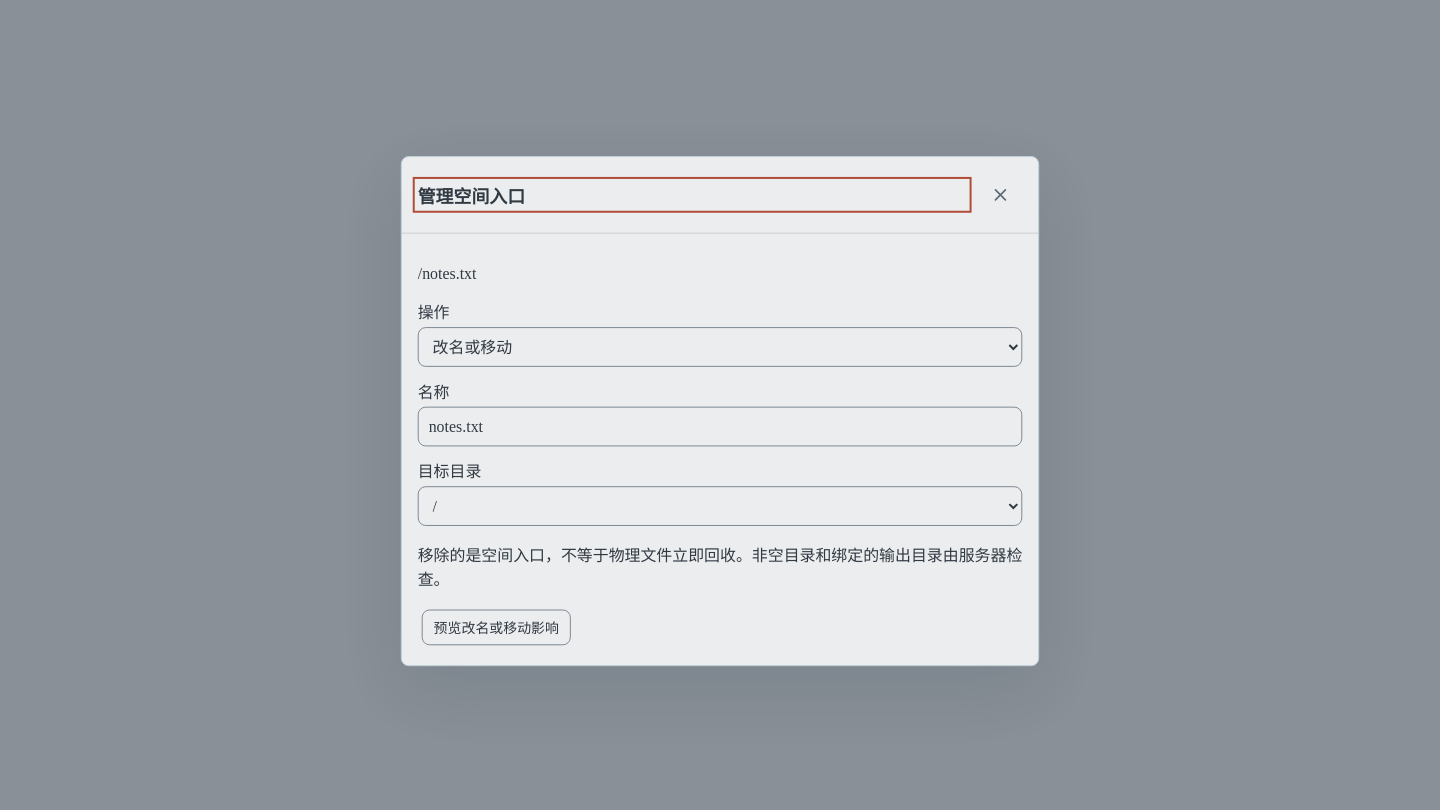
Test: clears impact on name/action changes and never automatically retries an expired token
Click the button "预览改名或移动影响": [496, 624] box [421,606,570,642]
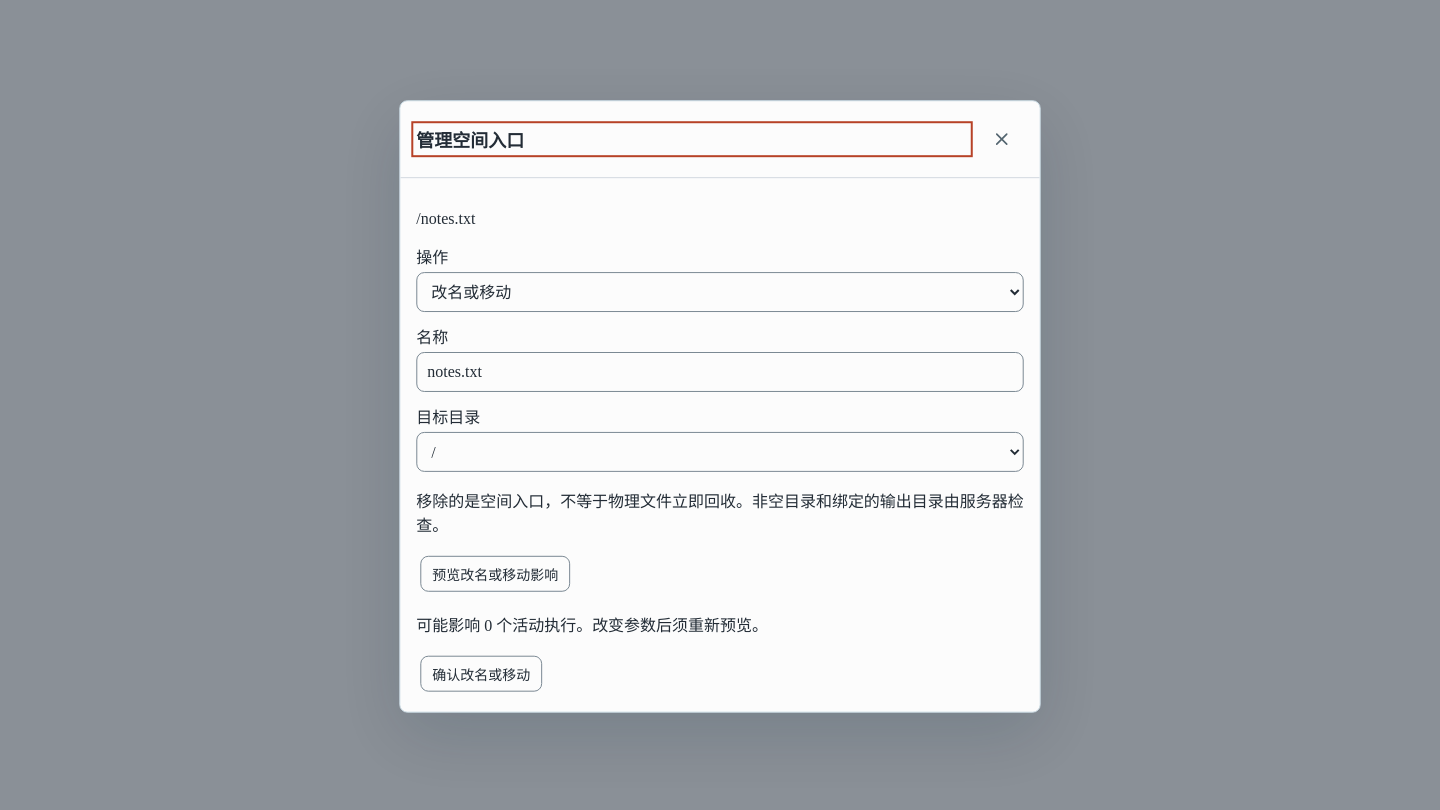
Result: the button "确认改名或移动" is shown at [420,655,542,691]
Replace the text in the field named "Workspace 名称" with "new.txt": [720, 371] box [416,351,1024,391]
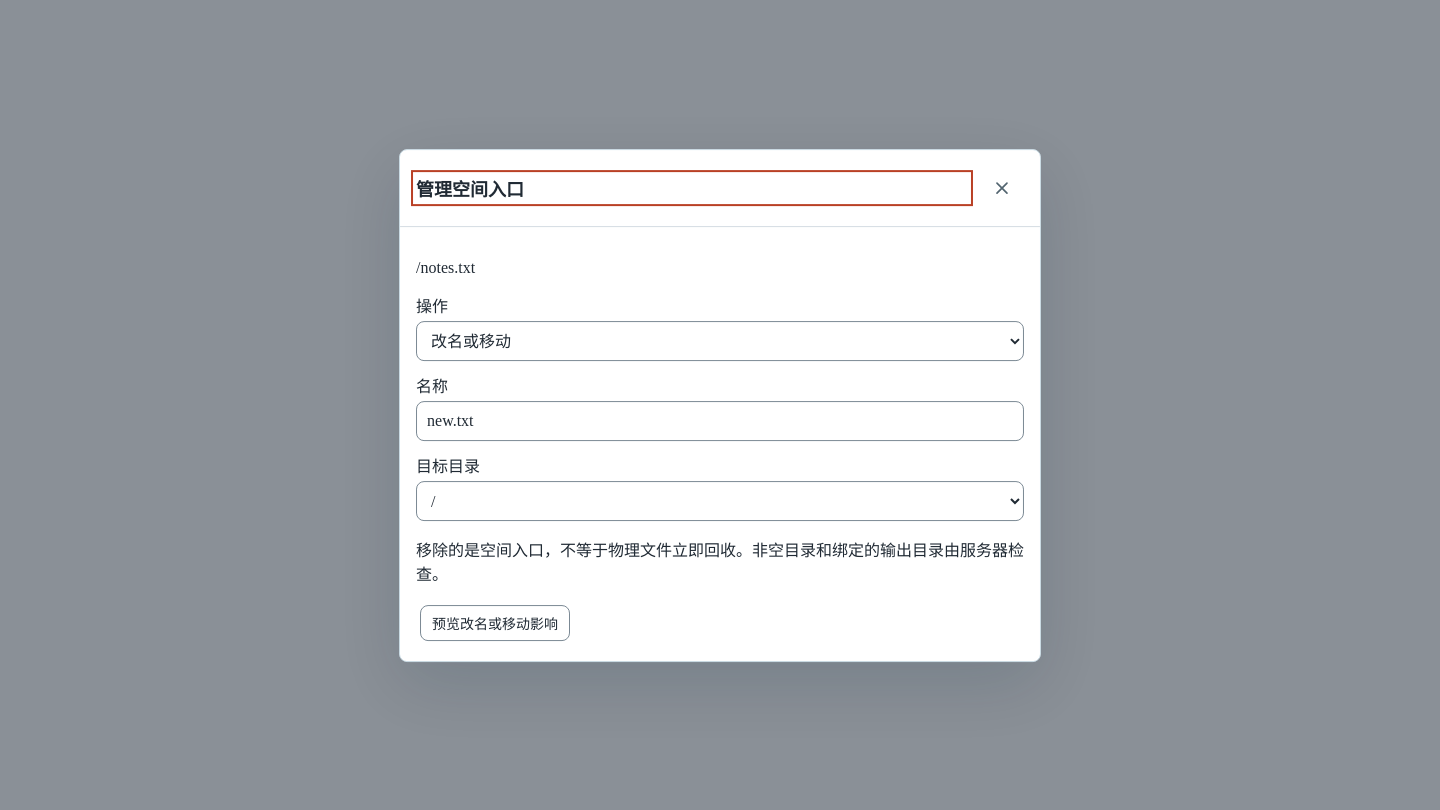
Result: the button "确认改名或移动" is gone
Click the button "预览改名或移动影响": [495, 622] box [420,604,570,640]
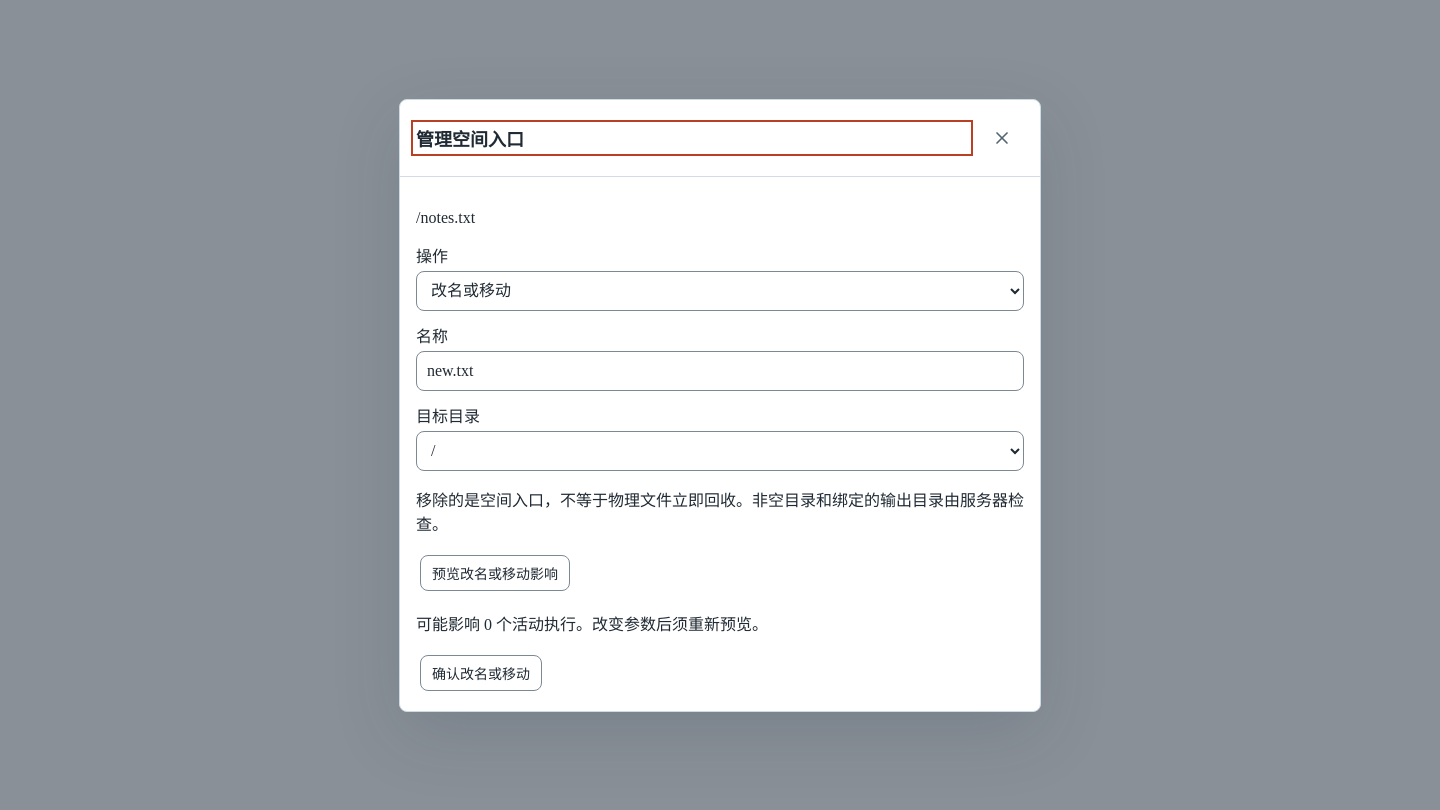
Click the button "确认改名或移动": [481, 672] box [420,654,542,690]
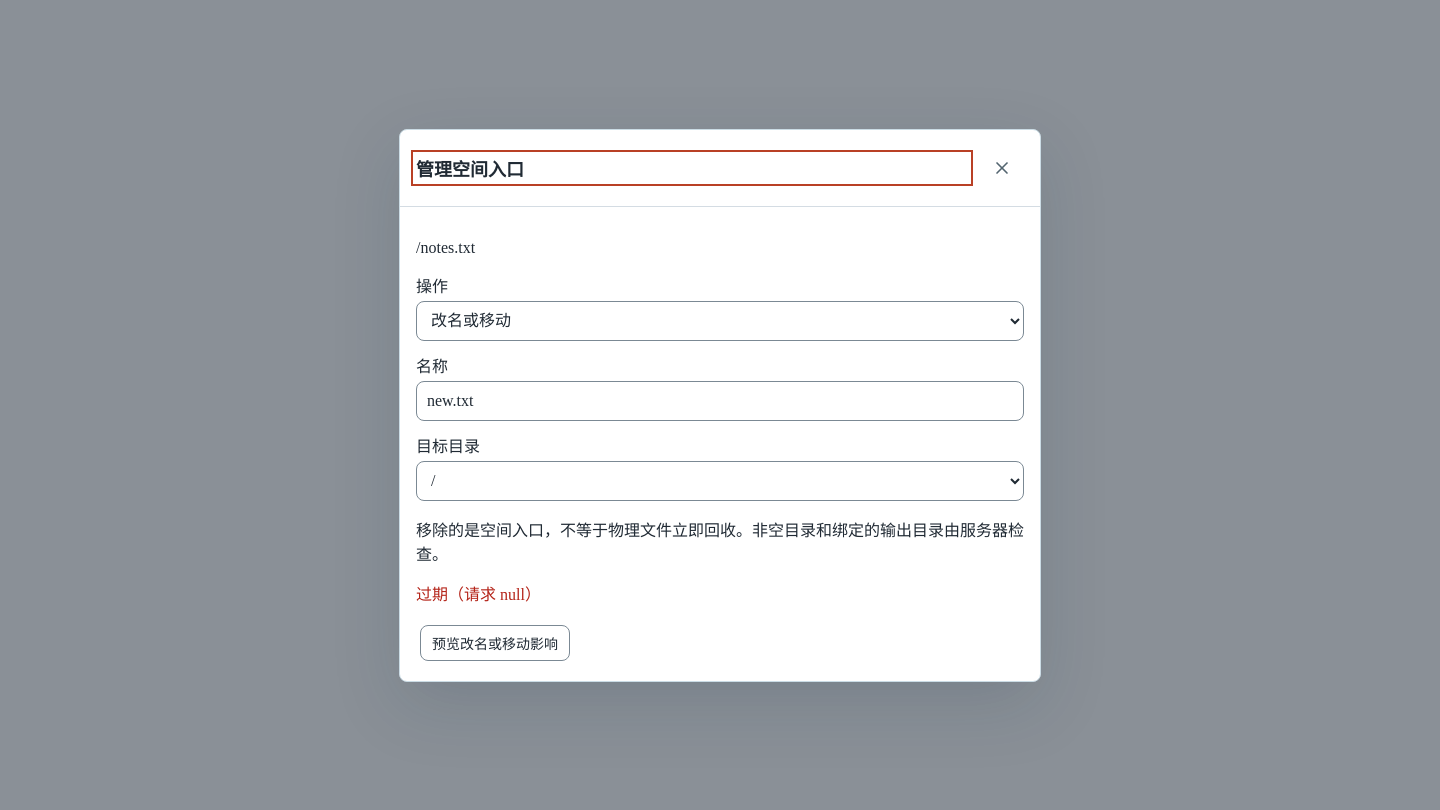
Result: the text "过期（请求 null）" is shown at [416,586,541,602]
Result: the button "确认改名或移动" is gone
